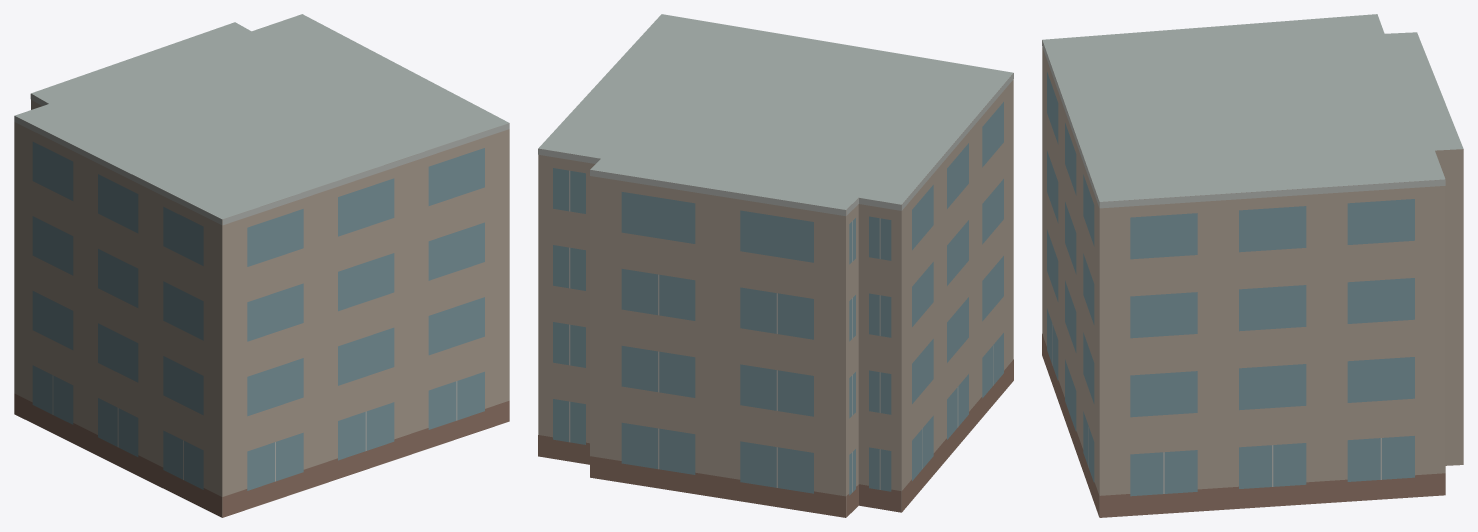
The model's file is survey-upis-32576997.glb.
3 renders of one model, left to right at view 1: azimuth 30°, elevation 25°; view 2: azimuth 150°, elevation 25°; view 3: azimuth 270°, elevation 25°, orthographic. The views are drawn at different scales.
Visible parts, largest first — view 1: survey-upis-32576997.tmp; view 2: survey-upis-32576997.tmp; view 3: survey-upis-32576997.tmp.
Part boxes in pixels (box(x1,y1,x2,y2)): survey-upis-32576997.tmp: box(14, 14, 509, 517); survey-upis-32576997.tmp: box(538, 14, 1013, 517); survey-upis-32576997.tmp: box(1042, 14, 1463, 517).
Bounding box in the file's own units: 15.39 × 12.05 × 14.58.
